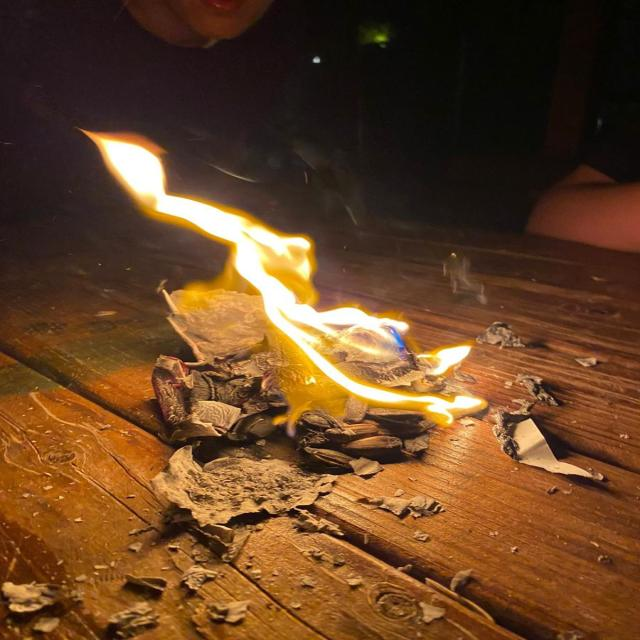fire: (78, 129, 485, 423)
